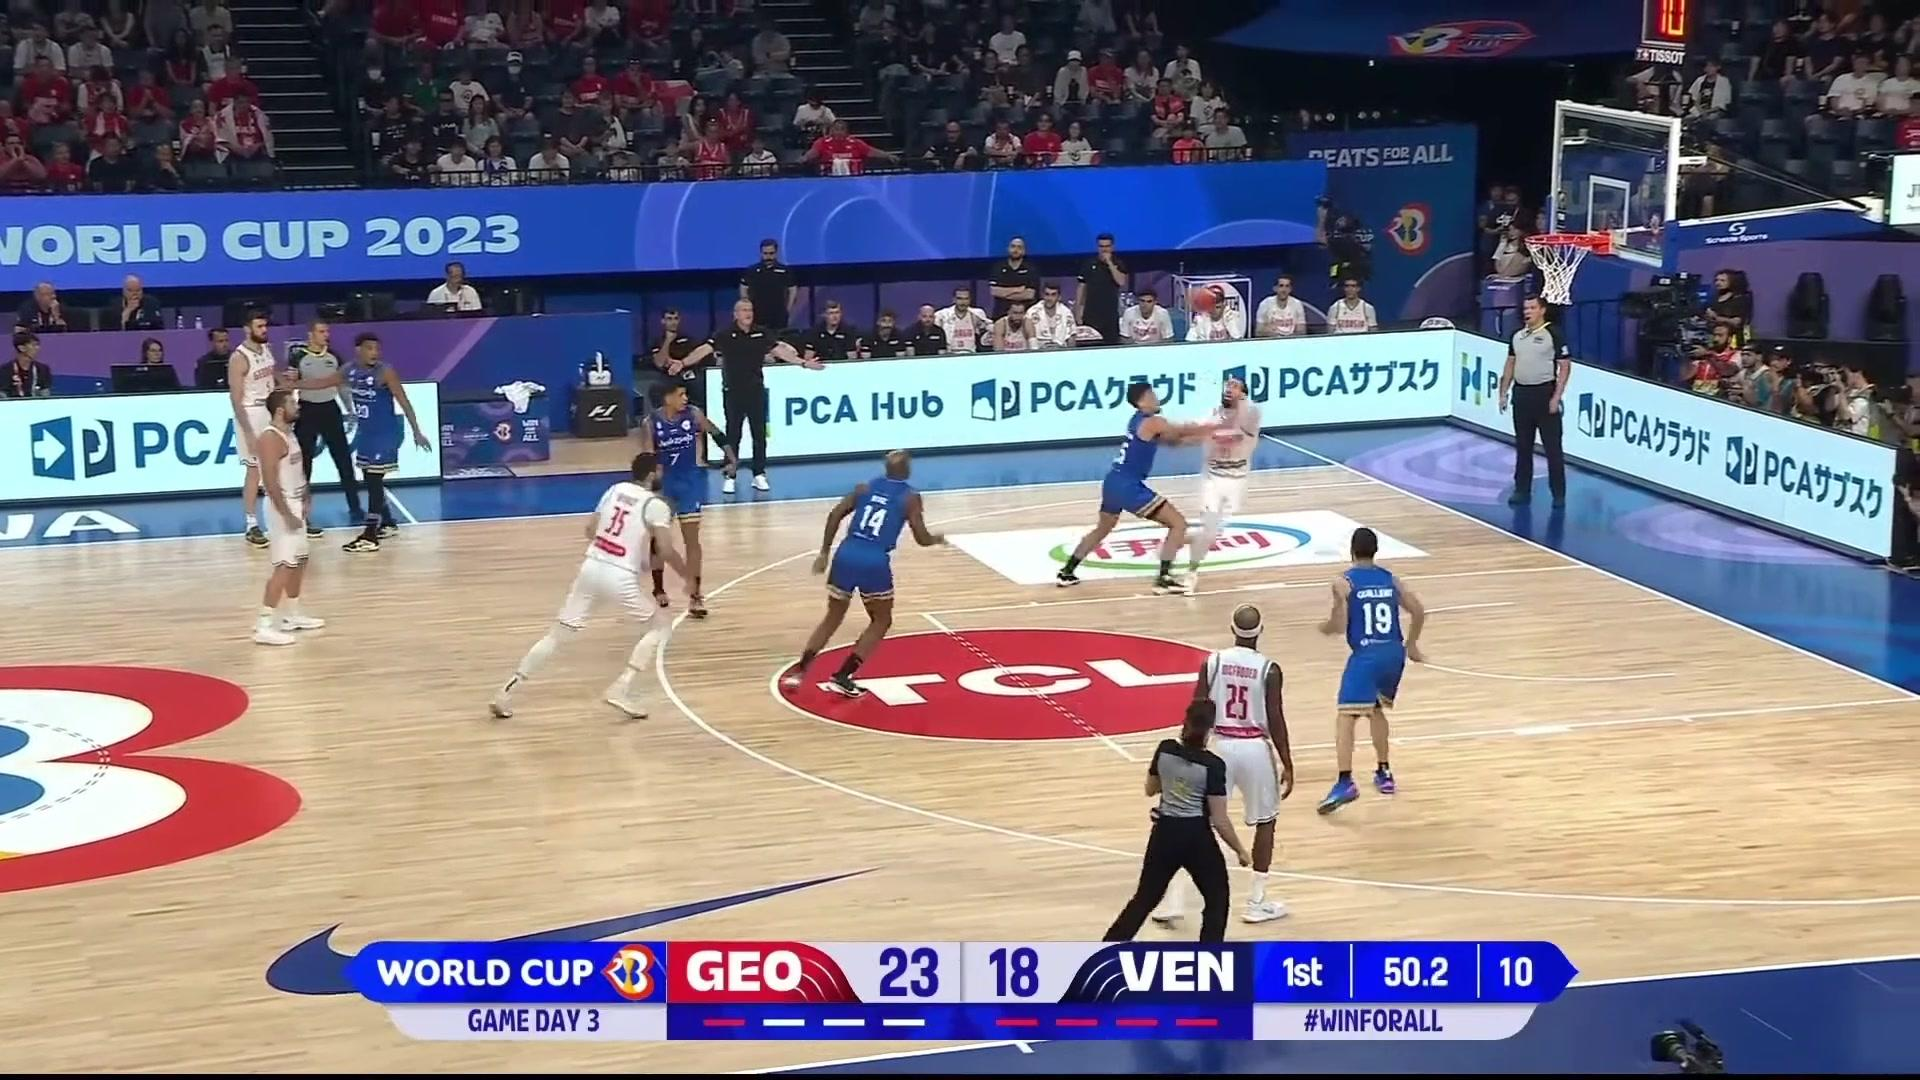no_foul: (1055, 349, 1271, 582)
